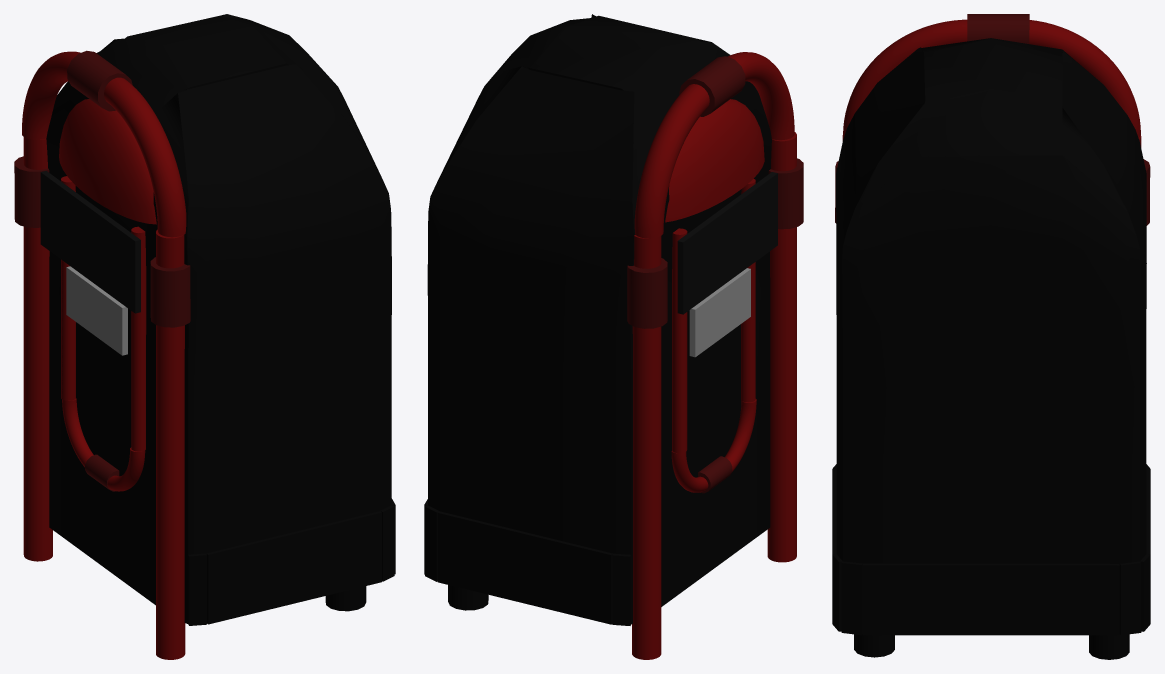
File: SM_Jukebox.fbx
3 views of the same model, side by side, from view 1: azimuth 30°, elevation 25°; view 2: azimuth 150°, elevation 25°; view 3: azimuth 270°, elevation 25° (orthographic).
Visible parts, largest first — view 1: Cylinder004; view 2: Cylinder004; view 3: Cylinder004.
Boxes of the visible parts, x1,y1,x2,y2 form: Cylinder004: [14, 14, 395, 659]; Cylinder004: [424, 14, 803, 659]; Cylinder004: [832, 14, 1150, 659].
Bounding box in the file's own units: 18.17 × 39.27 × 20.67.
